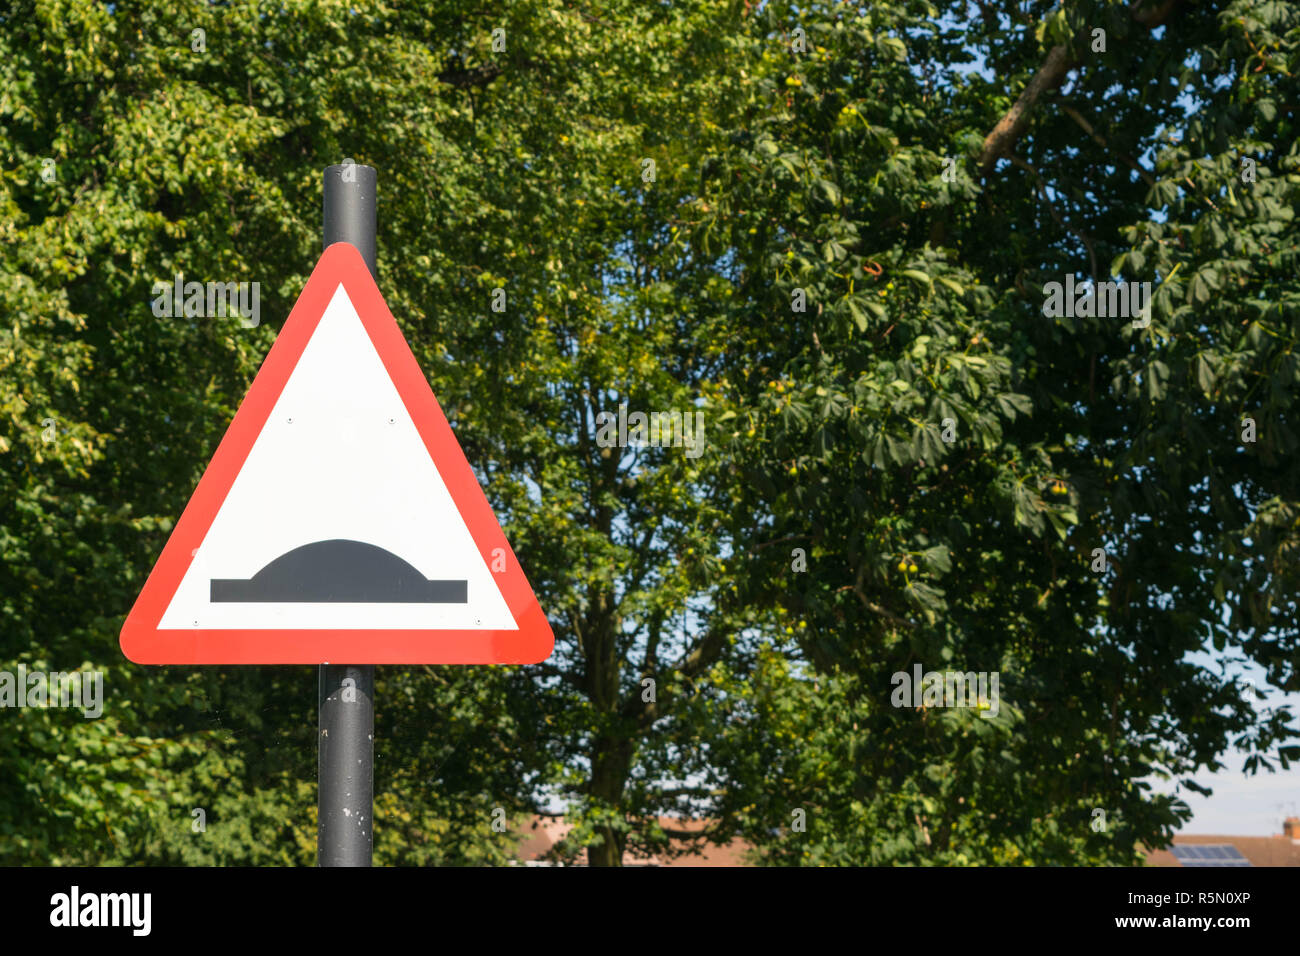speed-breaker: (157, 282, 544, 659)
